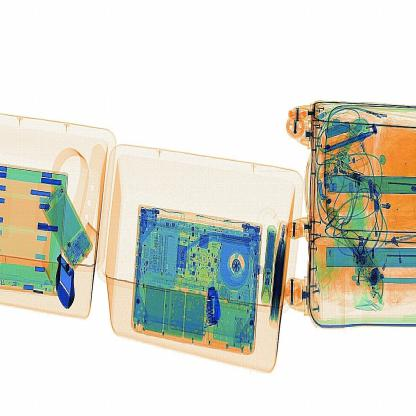scissors: (202, 283, 220, 329)
